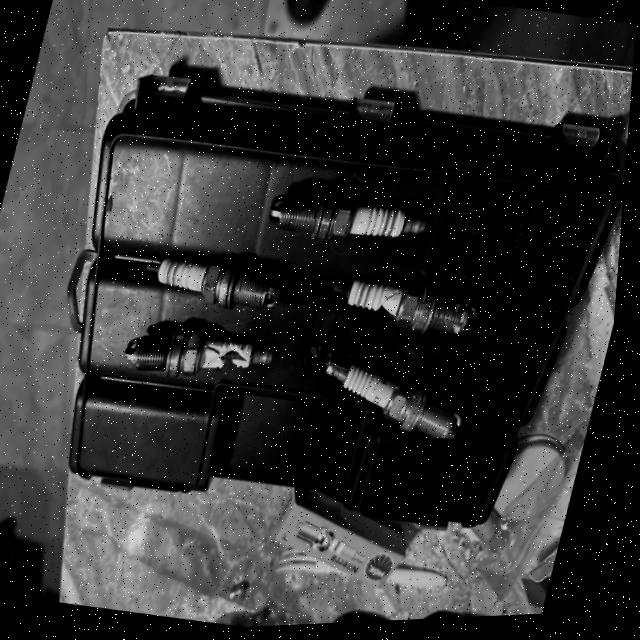damaged_spark-plug: (114, 316, 291, 415), (320, 261, 498, 350)
spark-plug: (307, 344, 487, 461), (260, 177, 437, 263), (130, 238, 294, 322)
